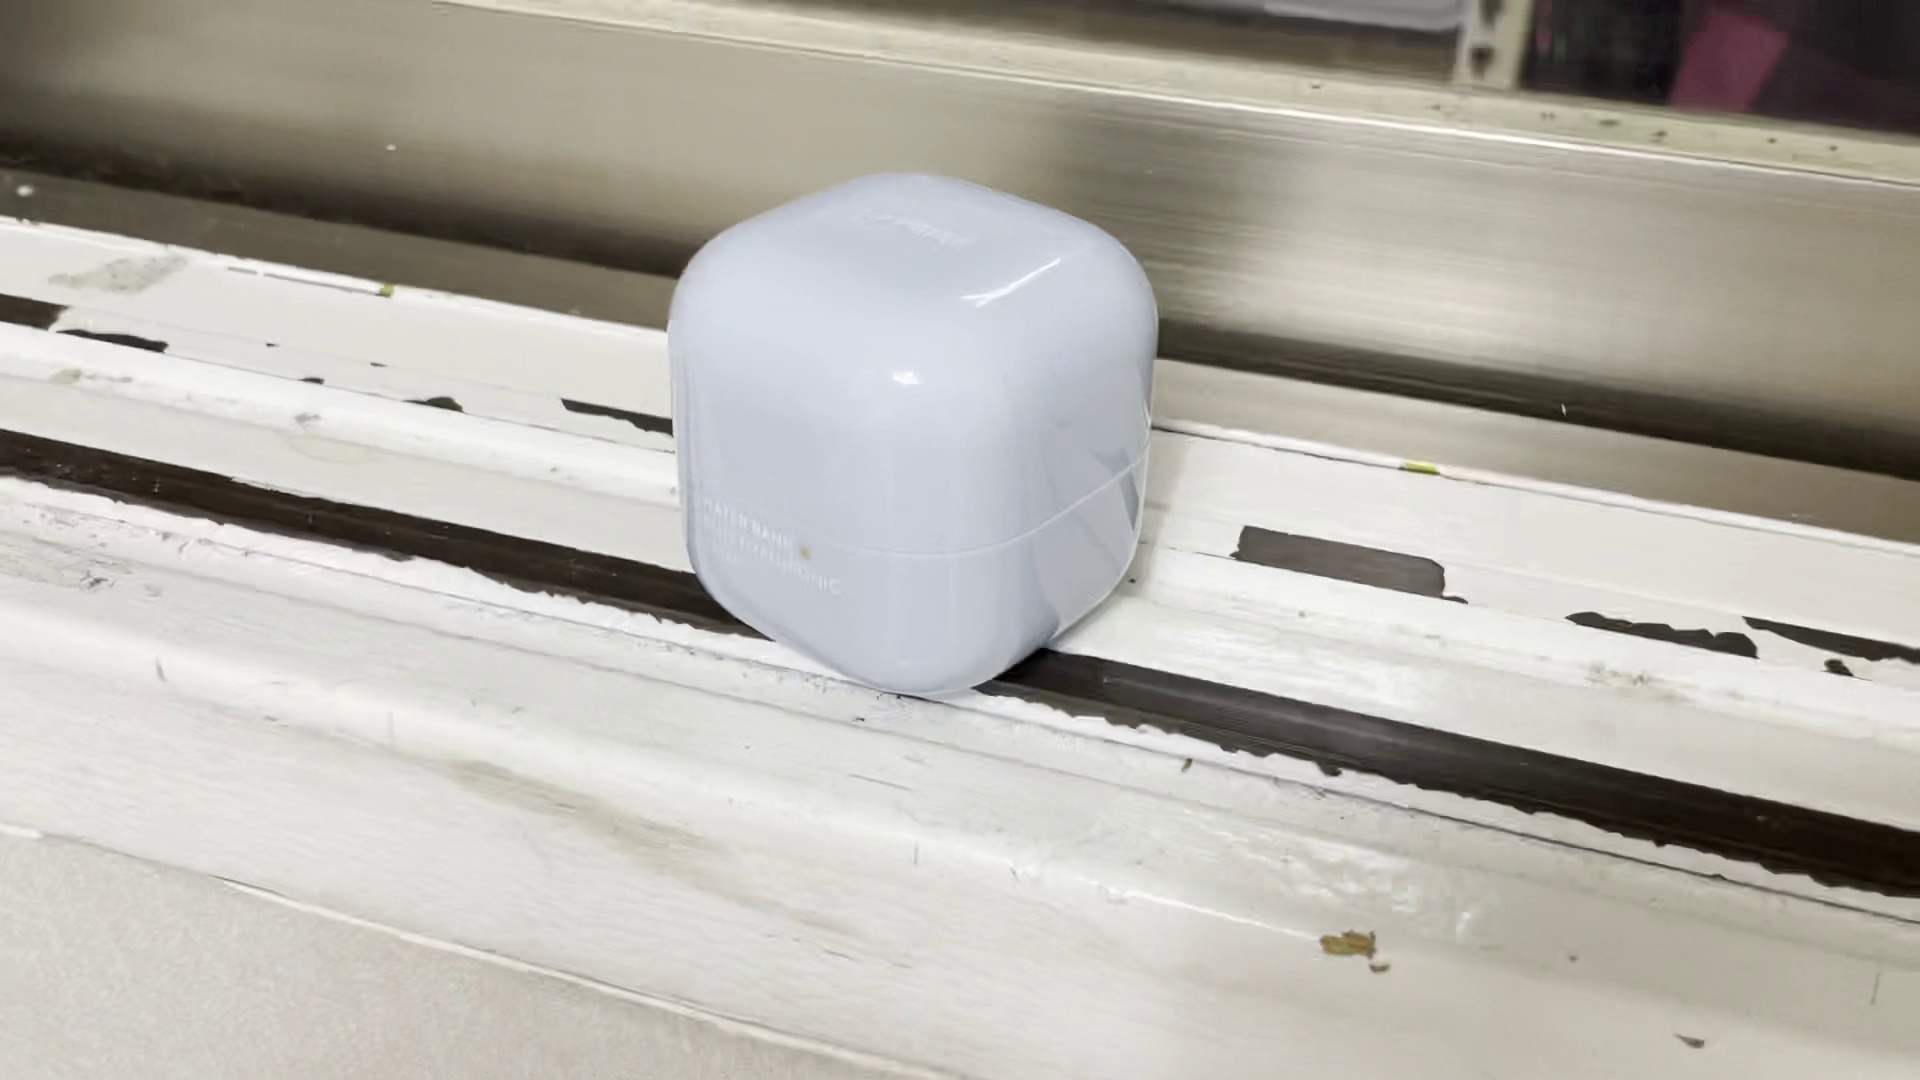cream: (661, 174, 1154, 694)
